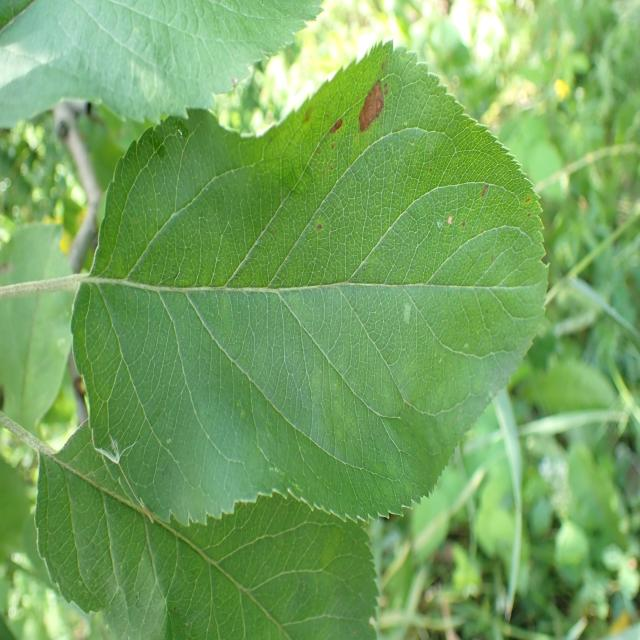Black Rot: (309, 56, 426, 188), (390, 286, 395, 289)
